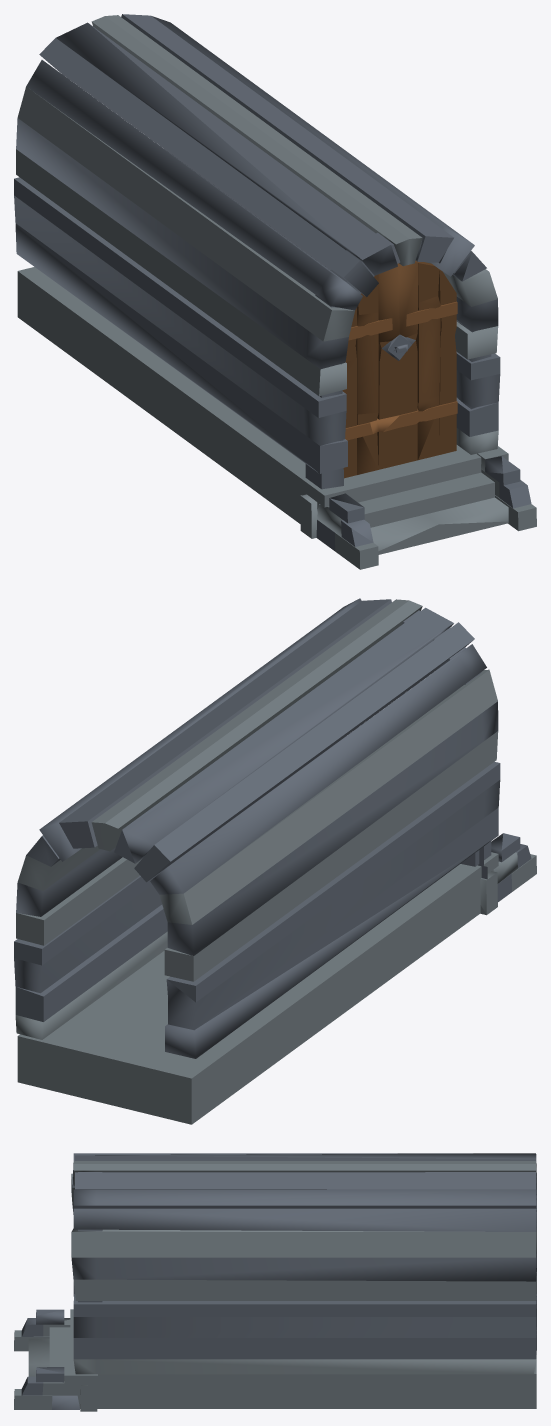
The model's file is dungeon_entrance.glb.
3 renders of one model, top to bottom at view 1: azimuth 30°, elevation 25°; view 2: azimuth 150°, elevation 25°; view 3: azimuth 270°, elevation 25°, orthographic. The views are drawn at different scales.
Parts seen in each view (by area): view 1: dungeon_entrance_back, dungeon_entrance; view 2: dungeon_entrance_back, dungeon_entrance; view 3: dungeon_entrance_back, dungeon_entrance.
Part boxes in pixels (<box>): dungeon_entrance_back: <box>14,14,459,529</box>; dungeon_entrance: <box>300,226,536,569</box>; dungeon_entrance_back: <box>14,609,487,1124</box>; dungeon_entrance: <box>329,598,536,914</box>; dungeon_entrance_back: <box>96,1153,536,1410</box>; dungeon_entrance: <box>14,1153,97,1411</box>.
Bounding box in the file's own units: 1.96 × 2.82 × 6.27.
